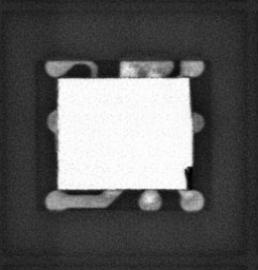DIE_BROKEN: (182, 164, 193, 192)
